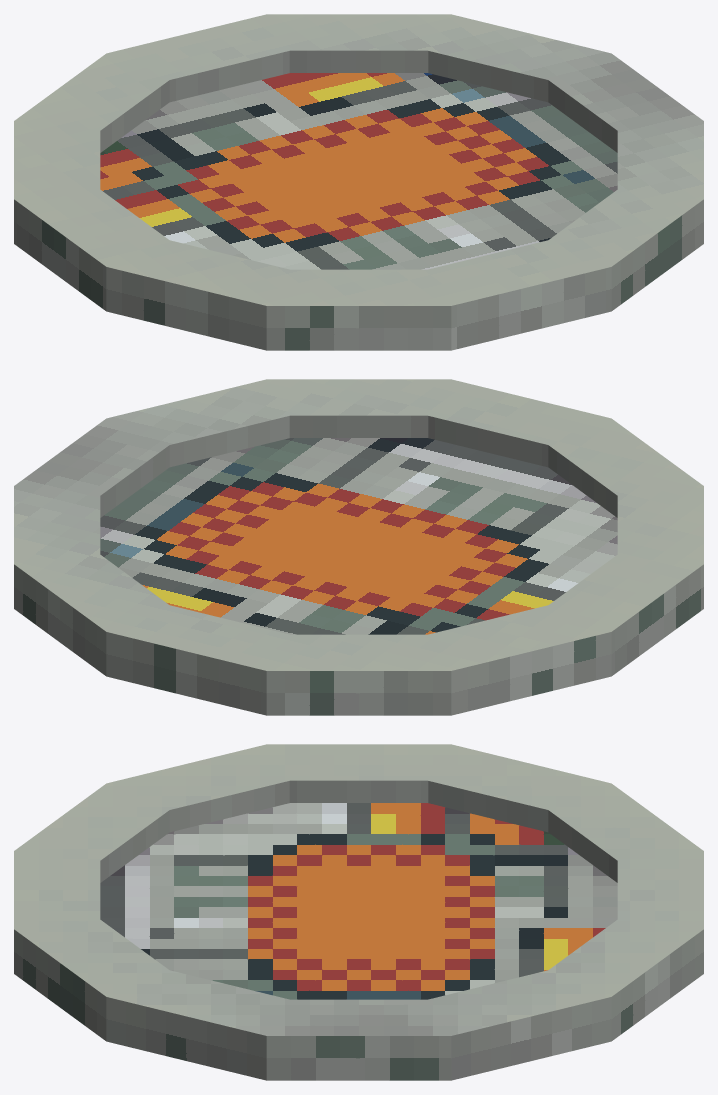
Rendered from upgradespot.obj.
3 renders of one model, top to bottom at view 1: azimuth 30°, elevation 25°; view 2: azimuth 150°, elevation 25°; view 3: azimuth 270°, elevation 25°, orthographic.
Parts seen in each view (by area): view 1: cylinder; view 2: cylinder; view 3: cylinder.
Part boxes in pixels (left/top/right/bottom): cylinder: left=14, top=14, right=703, bottom=350; cylinder: left=14, top=379, right=703, bottom=715; cylinder: left=14, top=744, right=703, bottom=1080.
Size of the model in its own units: 1.75 by 0.125 by 1.75.
1 material, 1 textured.
